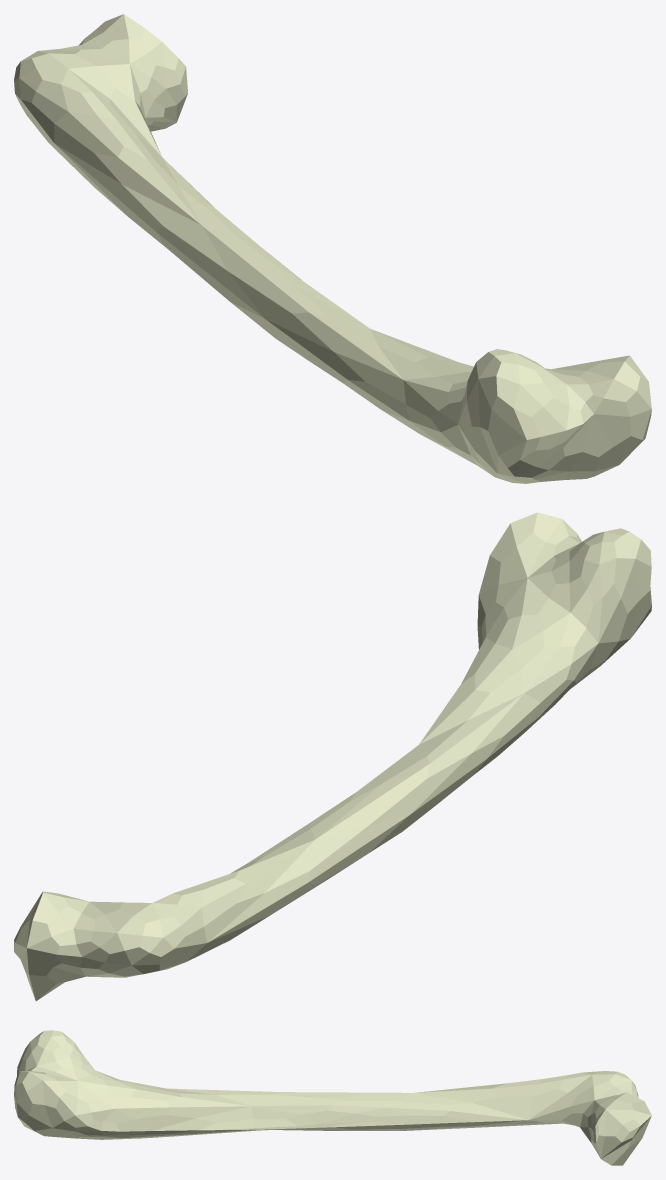
File: T_bone_1 (1).fbx
The picture shows the model from 3 angles, top to bottom: view 1: azimuth 30°, elevation 25°; view 2: azimuth 150°, elevation 25°; view 3: azimuth 270°, elevation 25°; orthographic projection. The views are drawn at different scales.
Parts seen in each view (by area): view 1: Cylinder; view 2: Cylinder; view 3: Cylinder.
Boxes of the visible parts, x1,y1,x2,y2 form: Cylinder: [14, 14, 651, 483]; Cylinder: [14, 512, 651, 1001]; Cylinder: [14, 1030, 651, 1165].
Bounding box in the file's own units: 1500 × 1360 × 8040.
